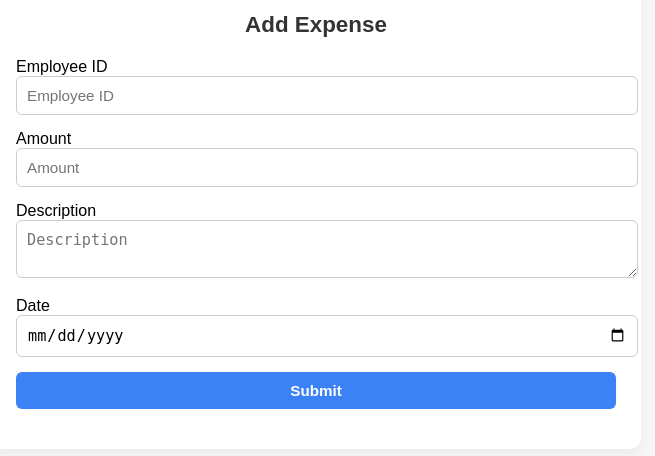
it: ExpenseForm › Form_shows success on correct submission and resets form
Type "10" into the number field labelled "Employee ID" at [327, 95], box [16, 76, 638, 115]
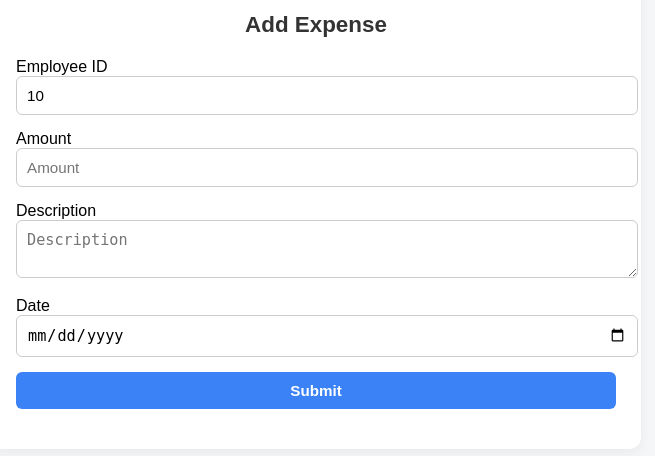
Type "20.5" into the number field labelled "Amount" at [327, 167], box [16, 148, 638, 187]
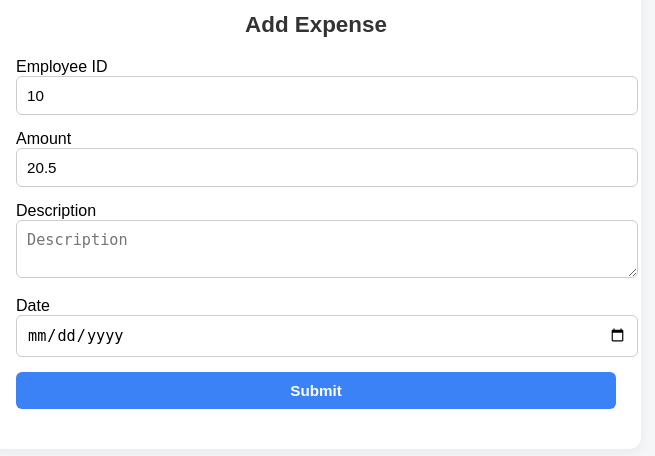
Type "Buying paper" into the text box labelled "Description" at [327, 249], box [16, 220, 638, 278]
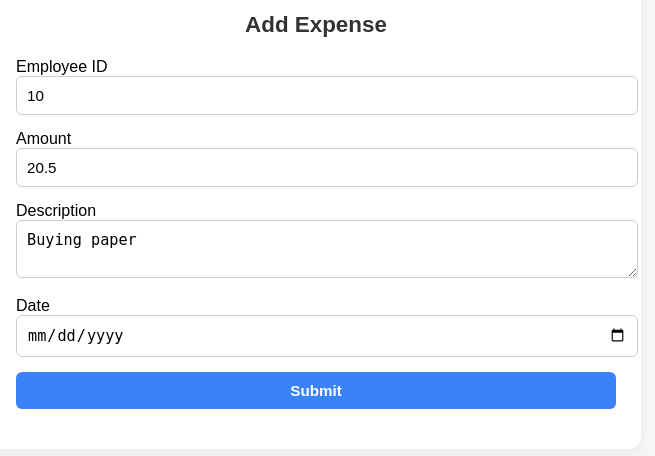
Type "2021-05-10" into the date field labelled "Date" at [327, 336], box [16, 315, 638, 357]
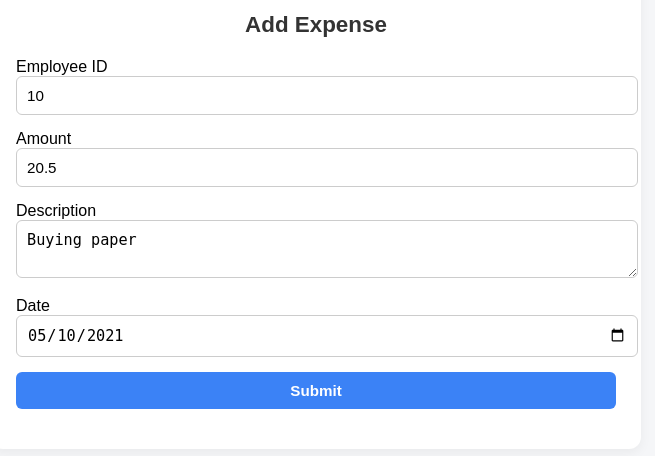
Click the button with test id "submit-btn" at [316, 390], box [16, 372, 616, 409]
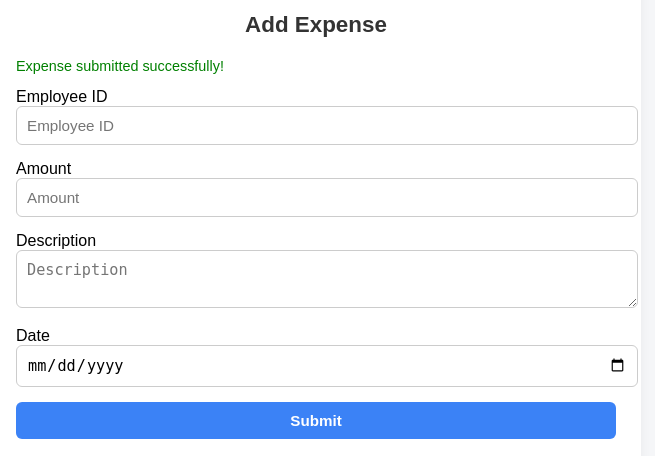
Now the text "Expense submitted successfully!" is shown, box [16, 58, 224, 74]
Now the number field labelled "Employee ID" is empty, box [16, 106, 638, 145]
